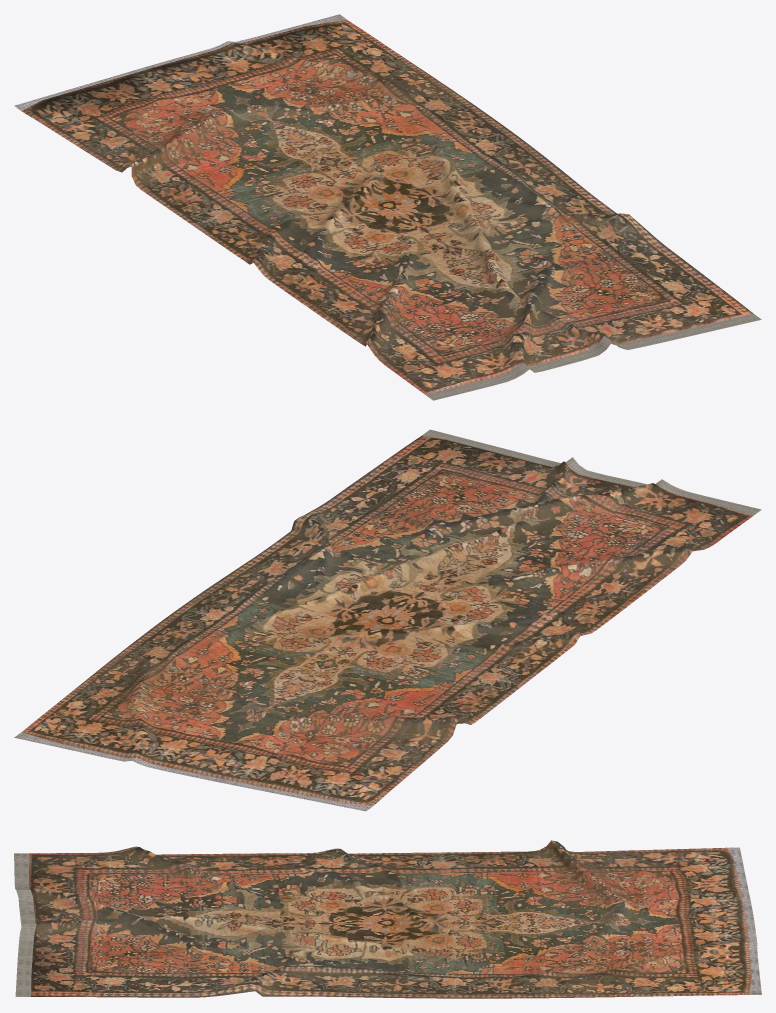
The model's file is tapete.glb.
3 renders of one model, top to bottom at view 1: azimuth 30°, elevation 25°; view 2: azimuth 150°, elevation 25°; view 3: azimuth 270°, elevation 25°, orthographic. The views are drawn at different scales.
Parts seen in each view (by area): view 1: Old_Persian_carpet; view 2: Old_Persian_carpet; view 3: Old_Persian_carpet.
Boxes of the visible parts, x1,y1,x2,y2 form: Old_Persian_carpet: (14,14,761,400); Old_Persian_carpet: (14,429,761,811); Old_Persian_carpet: (14,840,761,998).
Size of the model in its own units: 3.11 by 0.153 by 6.51.
Materials: 1 (1 with a texture image).
